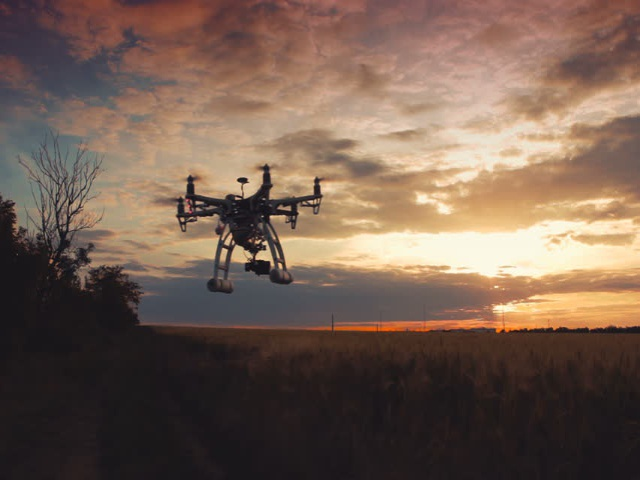drone: (156, 154, 340, 307)
